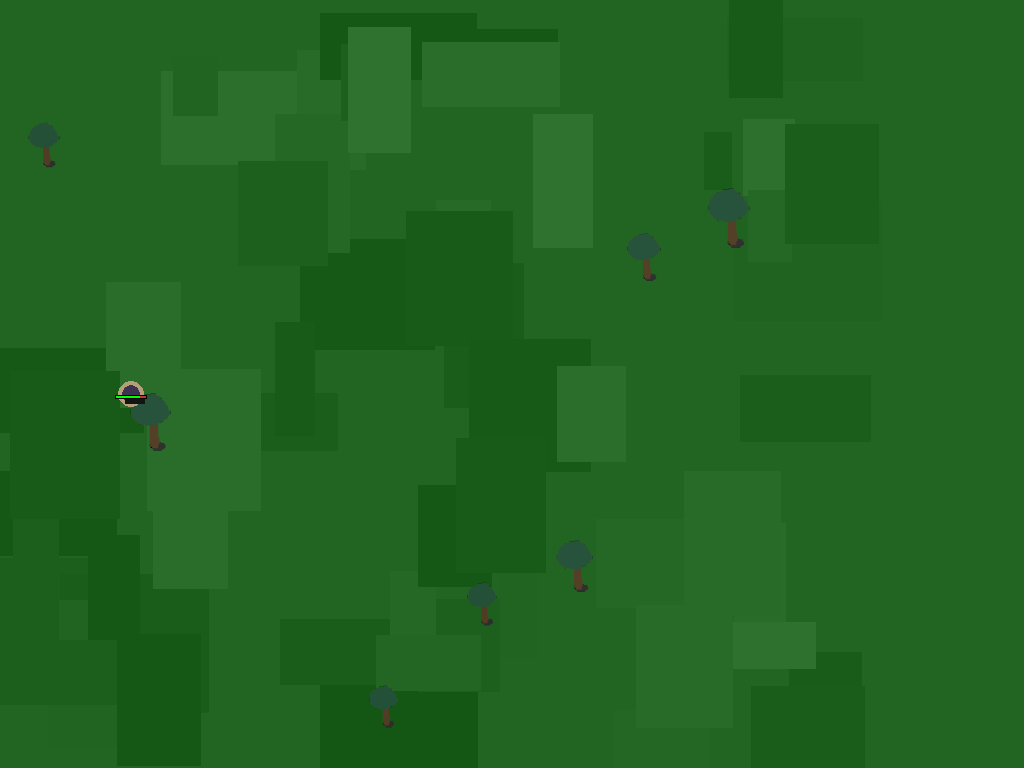RocketTrooper: (110, 374, 150, 414)
